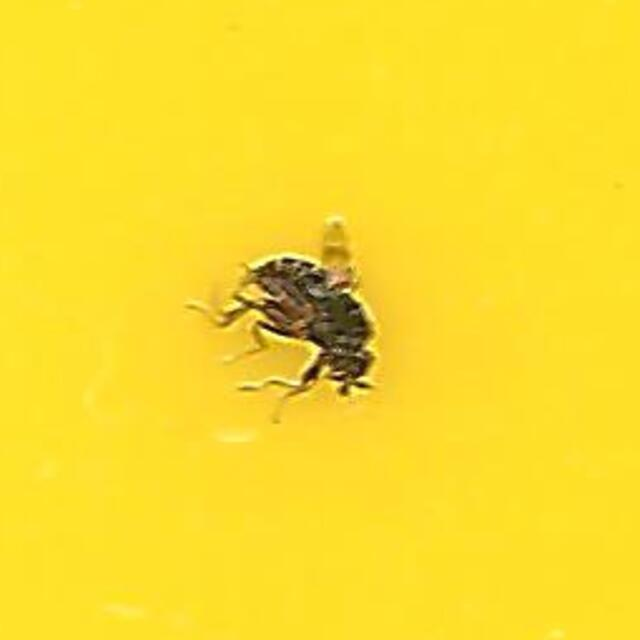Brachycera: (251, 225, 389, 415)
